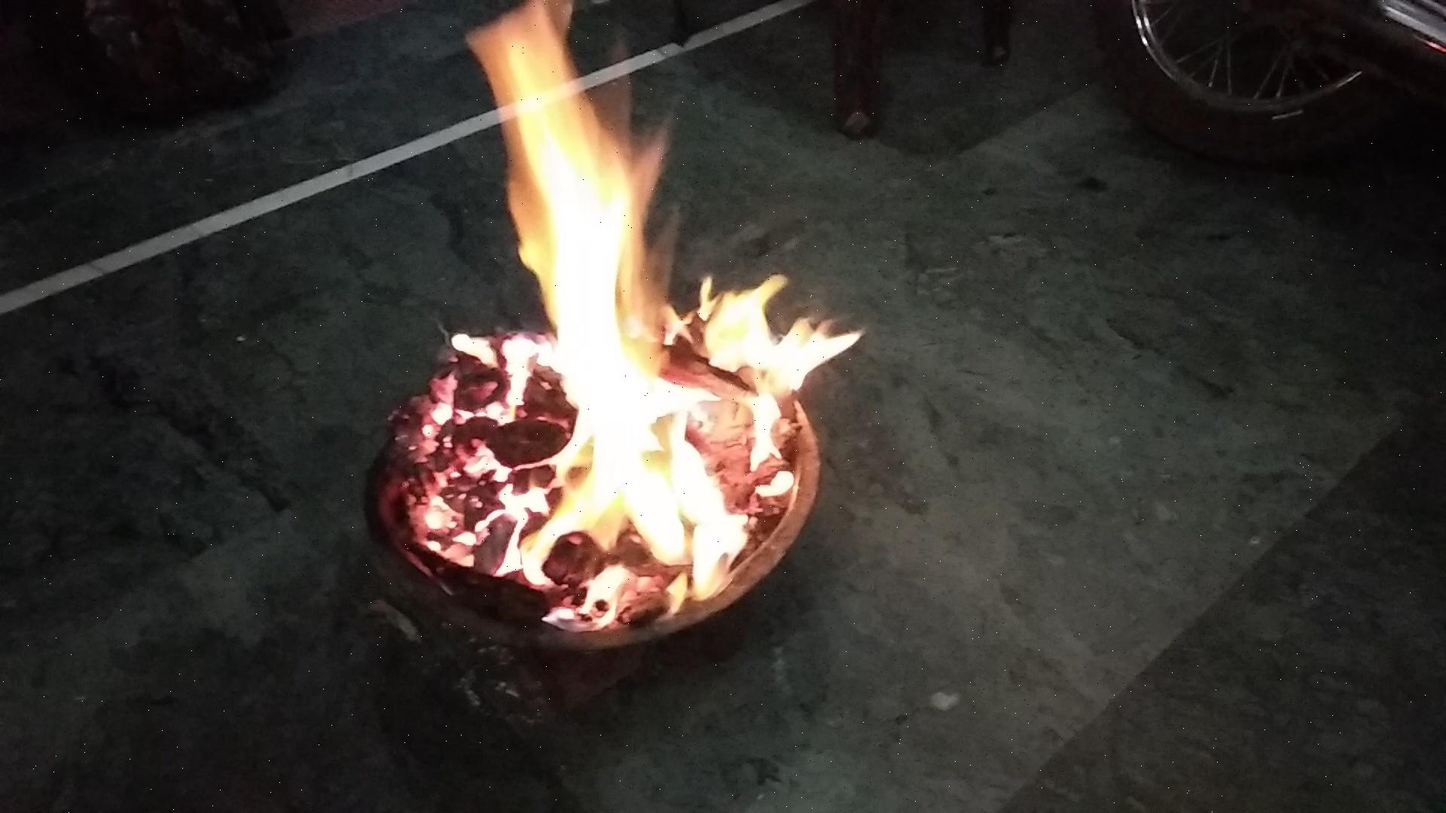fire: (382, 2, 845, 650)
